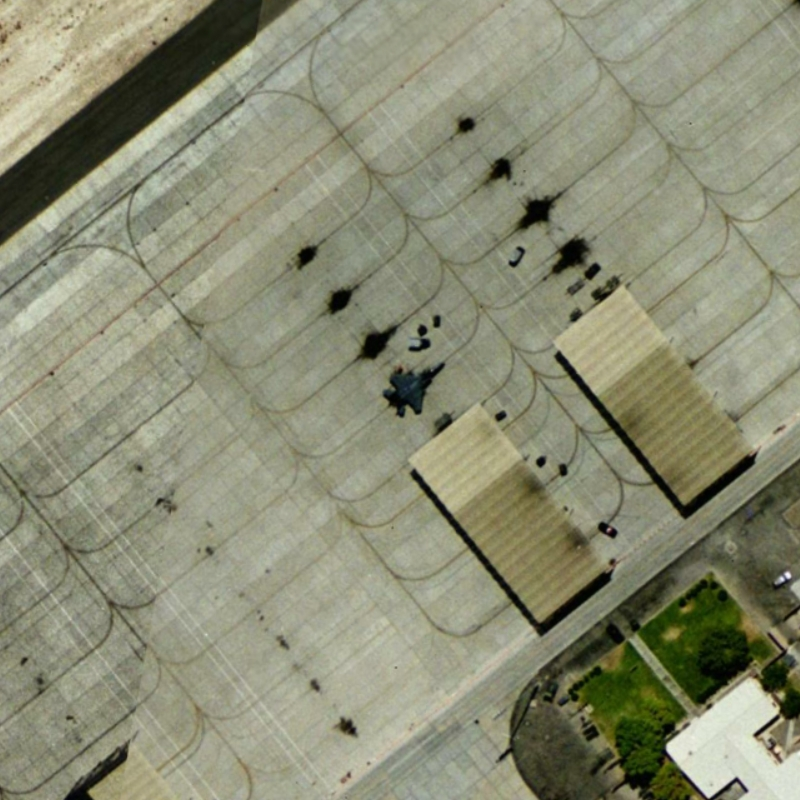A13: (381, 354, 448, 420)
